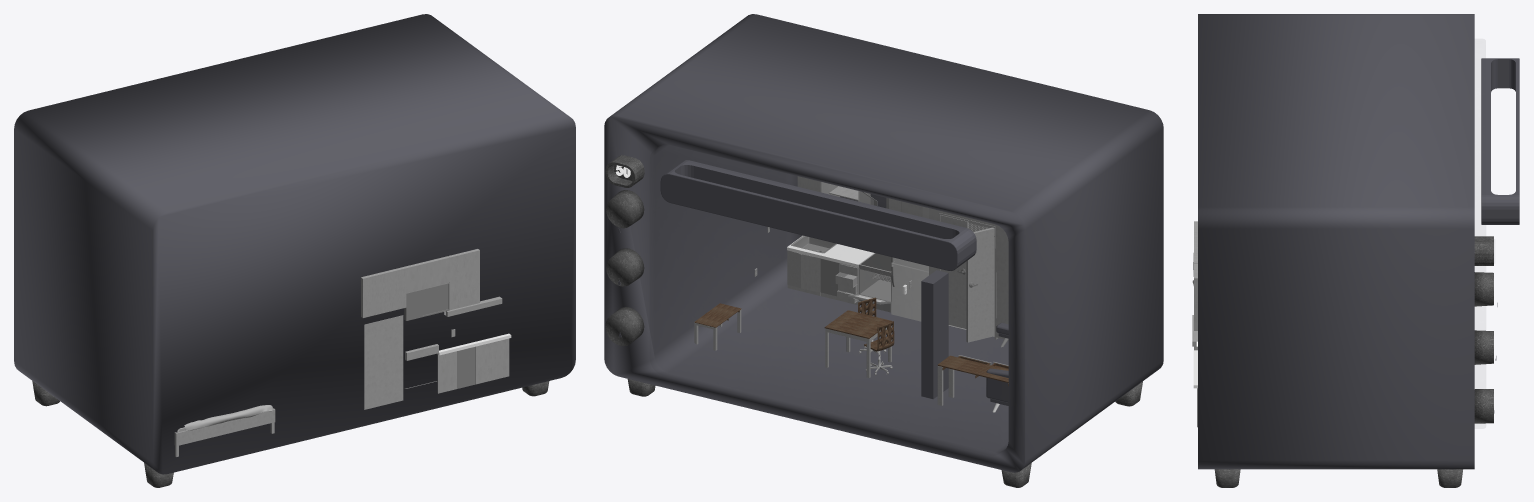
File: four.glb
3 views of the same model, side by side, from view 1: azimuth 30°, elevation 25°; view 2: azimuth 150°, elevation 25°; view 3: azimuth 270°, elevation 25° (orthographic).
Visible parts, largest first — view 1: Cube, Fridge.002, Shelf.012, Shelf.014, Bed.002, Shelf.010, Microwave.002, Shelf.013, Shelf.011, Sheet Top.002, Dishwasher.002; view 2: Cube, Cube.002, Cube.009, Closet Door 1.002, Closet.002, Table 1.002, Bottom Door.002, Closet Door 2.002, Stove.008, Desk 1.002, Cylinder.003, Cylinder.002 (+7 smaller); view 3: Cube, Cube.002, Cylinder.003, Cylinder.002, Cylinder.005, Cube.003, Cube.014, Cube.016.
Part boxes in pixels (bbox=[...]): Cube: bbox=[14, 14, 575, 474]; Fridge.002: bbox=[364, 315, 403, 409]; Shelf.012: bbox=[361, 267, 406, 317]; Shelf.014: bbox=[448, 249, 479, 310]; Bed.002: bbox=[174, 408, 275, 456]; Shelf.010: bbox=[475, 338, 509, 384]; Microwave.002: bbox=[404, 283, 449, 320]; Shelf.013: bbox=[404, 256, 449, 292]; Shelf.011: bbox=[437, 351, 456, 393]; Sheet Top.002: bbox=[184, 405, 273, 430]; Dishwasher.002: bbox=[457, 346, 475, 388]; Cube: bbox=[604, 14, 1163, 472]; Cube.002: bbox=[660, 160, 976, 270]; Cube.009: bbox=[921, 270, 948, 399]; Closet Door 1.002: bbox=[966, 227, 994, 342]; Closet.002: bbox=[929, 208, 1008, 339]; Table 1.002: bbox=[824, 310, 892, 377]; Bottom Door.002: bbox=[891, 263, 928, 321]; Closet Door 2.002: bbox=[940, 215, 968, 328]; Stove.008: bbox=[858, 253, 891, 301]; Desk 1.002: bbox=[937, 355, 1008, 405]; Cylinder.003: bbox=[605, 307, 644, 346]; Cylinder.002: bbox=[606, 190, 644, 228]; Cube: bbox=[1198, 14, 1474, 469]; Cube.002: bbox=[1481, 58, 1519, 224]; Cylinder.003: bbox=[1474, 389, 1493, 423]; Cylinder.002: bbox=[1474, 272, 1493, 306]; Cylinder.005: bbox=[1474, 330, 1493, 364]; Cube.003: bbox=[1474, 236, 1493, 265]; Cube.014: bbox=[1437, 469, 1462, 487]; Cube.016: bbox=[1214, 469, 1240, 487].
Bounding box in the file's own units: 3.51 × 2.26 × 2.36.
Materials: 23 (15 with a texture image).
